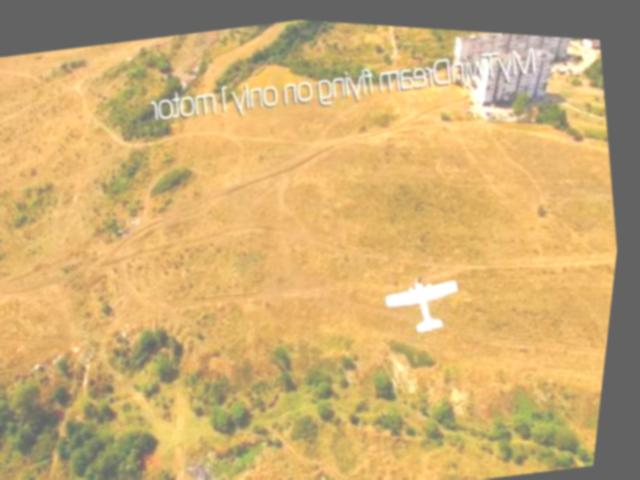uav: (375, 253, 479, 345)
